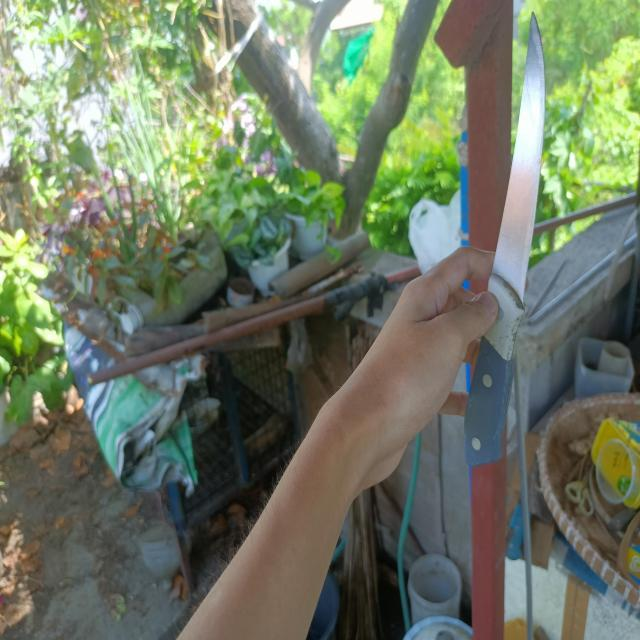knife: (445, 11, 545, 466)
